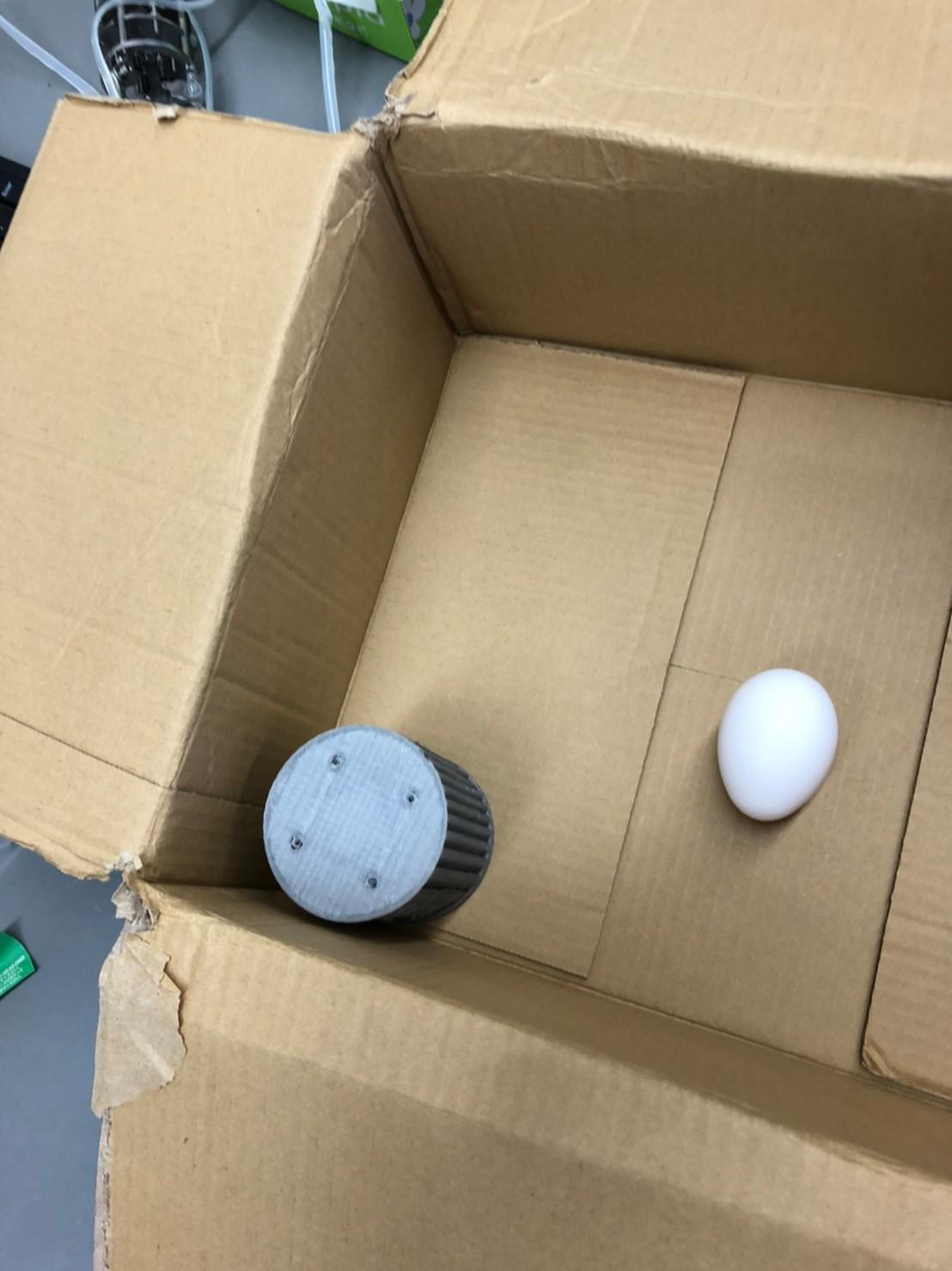egg: (709, 658, 837, 831)
